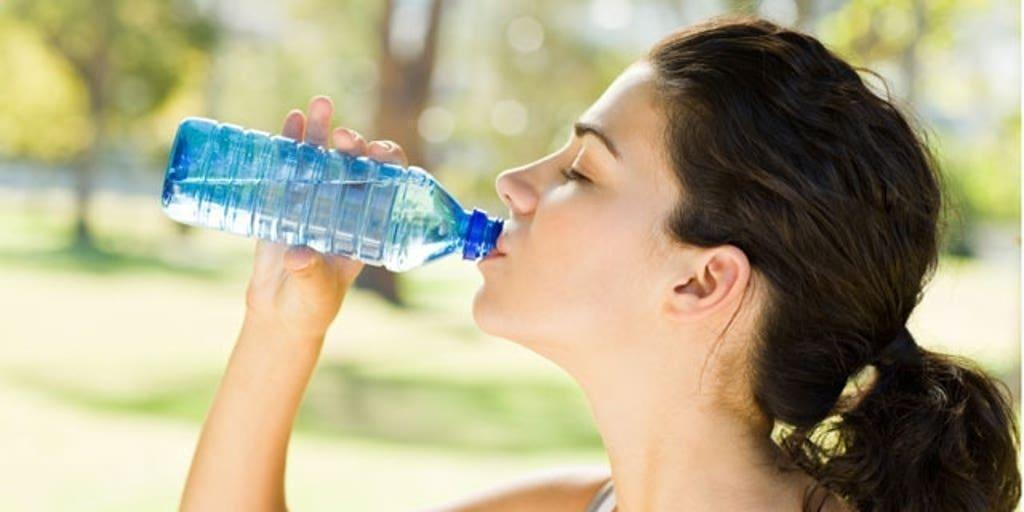bottle-plastic: (154, 114, 508, 277)
